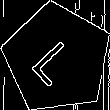L_NE: (29, 30, 86, 87)
